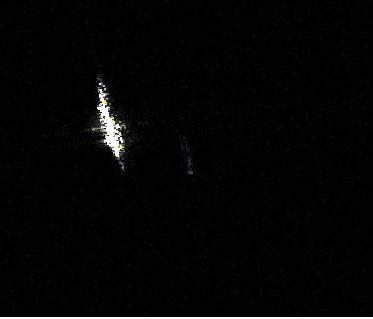ship: (93, 82, 129, 166)
